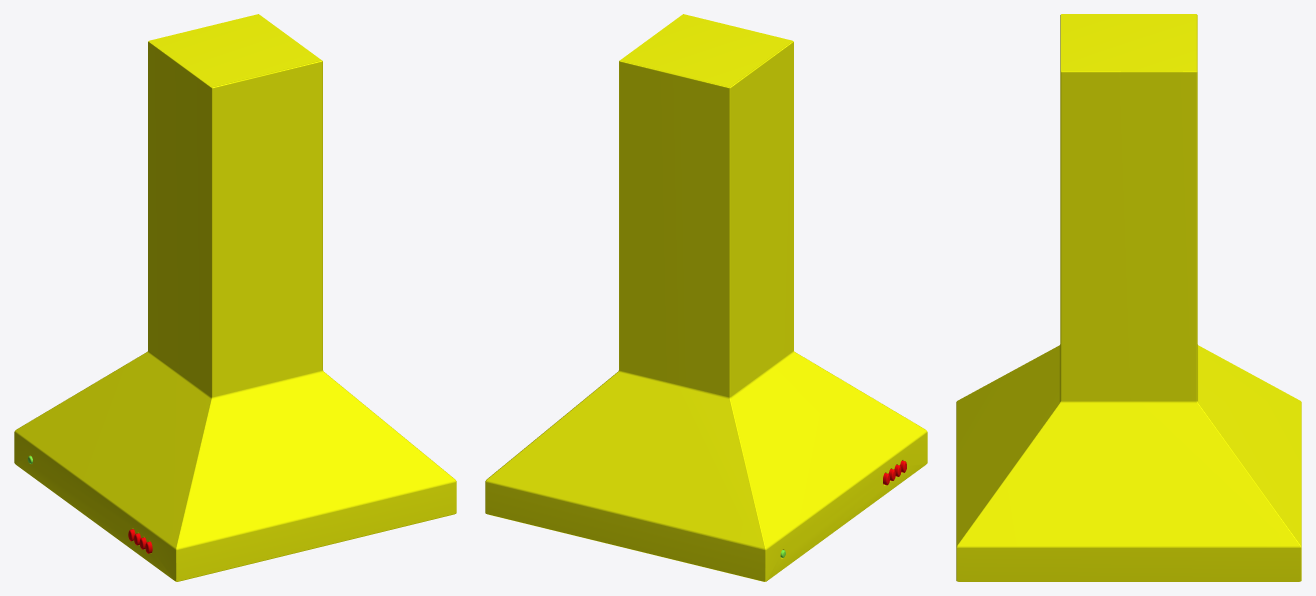
The model's file is SM_Ki_Extractor.fbx.
3 renders of one model, left to right at view 1: azimuth 30°, elevation 25°; view 2: azimuth 150°, elevation 25°; view 3: azimuth 270°, elevation 25°, orthographic. The views are drawn at different scales.
Visible parts, largest first — view 1: Circle.001; view 2: Circle.001; view 3: Circle.001.
Boxes of the visible parts, x1,y1,x2,y2 form: Circle.001: (14,14,456,581); Circle.001: (485,14,927,581); Circle.001: (956,14,1301,581).
Bounding box in the file's own units: 67.89 × 99.95 × 67.06.
